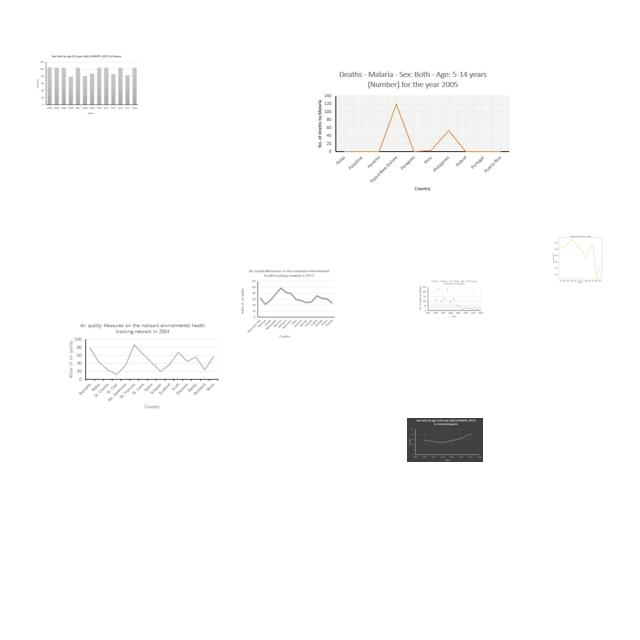Graph: (314, 68, 513, 194), (65, 319, 222, 412), (33, 52, 144, 116), (239, 268, 339, 339), (540, 231, 619, 285), (407, 418, 483, 462), (418, 279, 485, 319)
